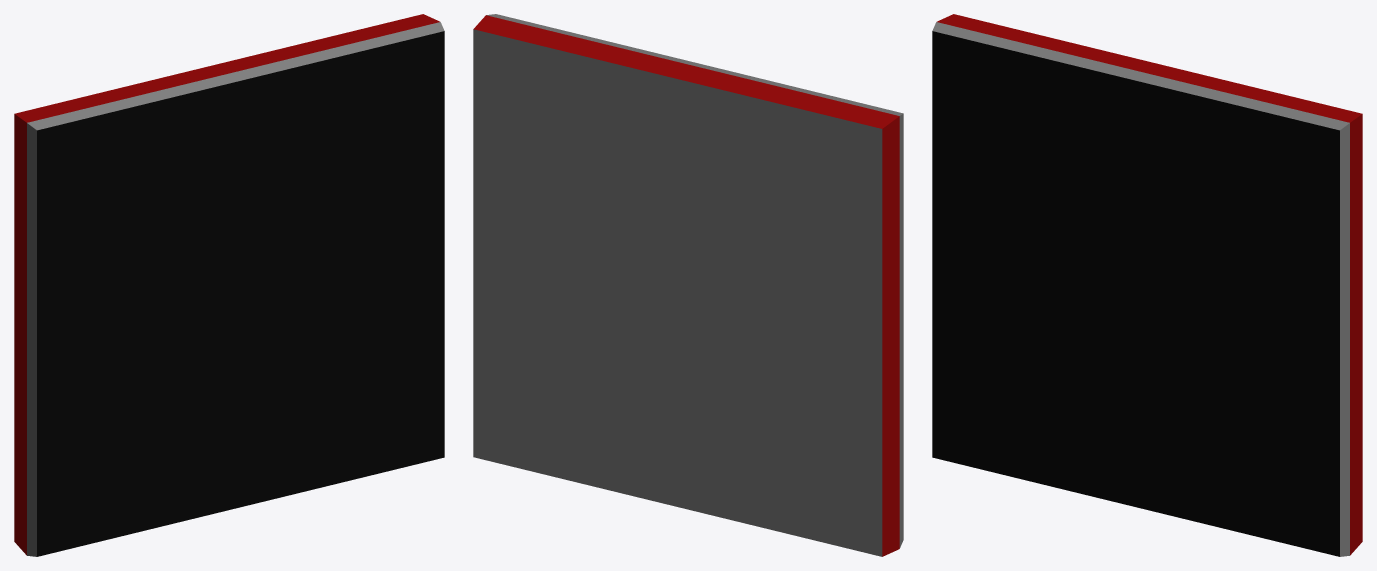
File: black_plate.fbx
The picture shows the model from 3 angles, left to right: view 1: azimuth 30°, elevation 25°; view 2: azimuth 150°, elevation 25°; view 3: azimuth 330°, elevation 25°; orthographic projection.
Parts seen in each view (by area): view 1: black_plate; view 2: black_plate; view 3: black_plate.
Part boxes in pixels (box(x1,y1,x2,y2)): black_plate: box(14, 14, 444, 556); black_plate: box(473, 14, 903, 556); black_plate: box(932, 14, 1362, 556).
Bounding box in the file's own units: 245 × 245 × 22.59.
